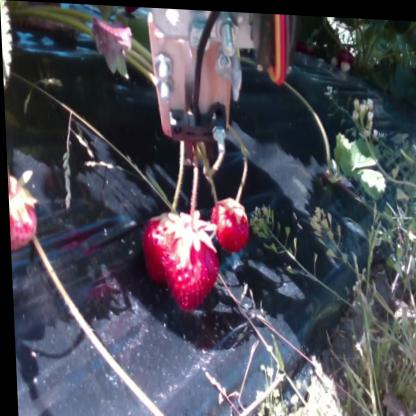ripe: (166, 237, 215, 302), (6, 181, 35, 248), (213, 201, 246, 242), (141, 214, 165, 270)
